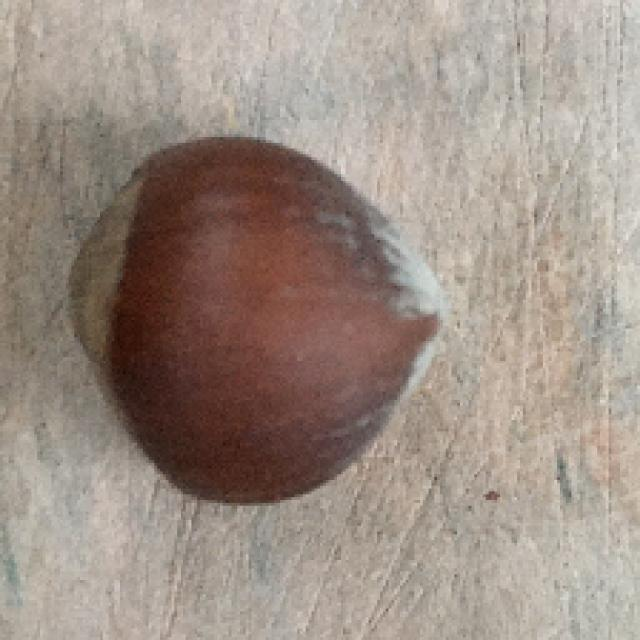damagedHazelnut: (57, 132, 460, 515)
